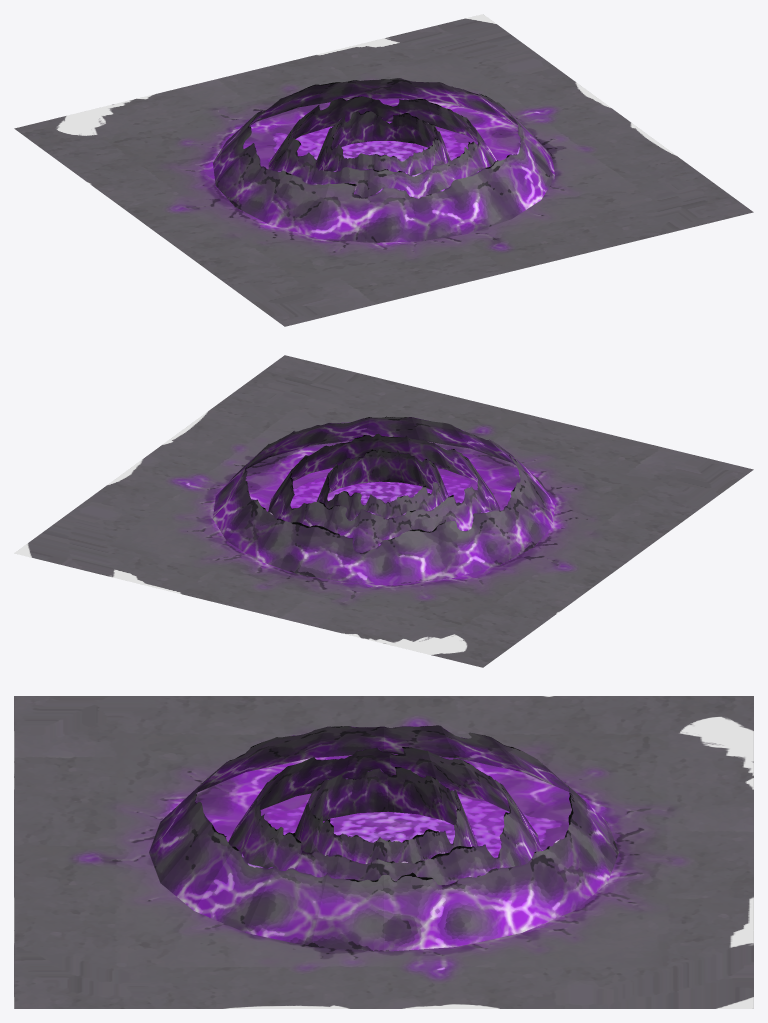
File: death_base.fbx
3 renders of one model, top to bottom at view 1: azimuth 30°, elevation 25°; view 2: azimuth 150°, elevation 25°; view 3: azimuth 270°, elevation 25°, orthographic. The views are drawn at different scales.
Parts seen in each view (by area): view 1: Death_base; view 2: Death_base; view 3: Death_base.
Boxes of the visible parts, x1,y1,x2,y2 form: Death_base: [14, 14, 753, 326]; Death_base: [14, 355, 753, 667]; Death_base: [14, 696, 753, 1008].
Size of the model in its own units: 117 by 10.18 by 117.
